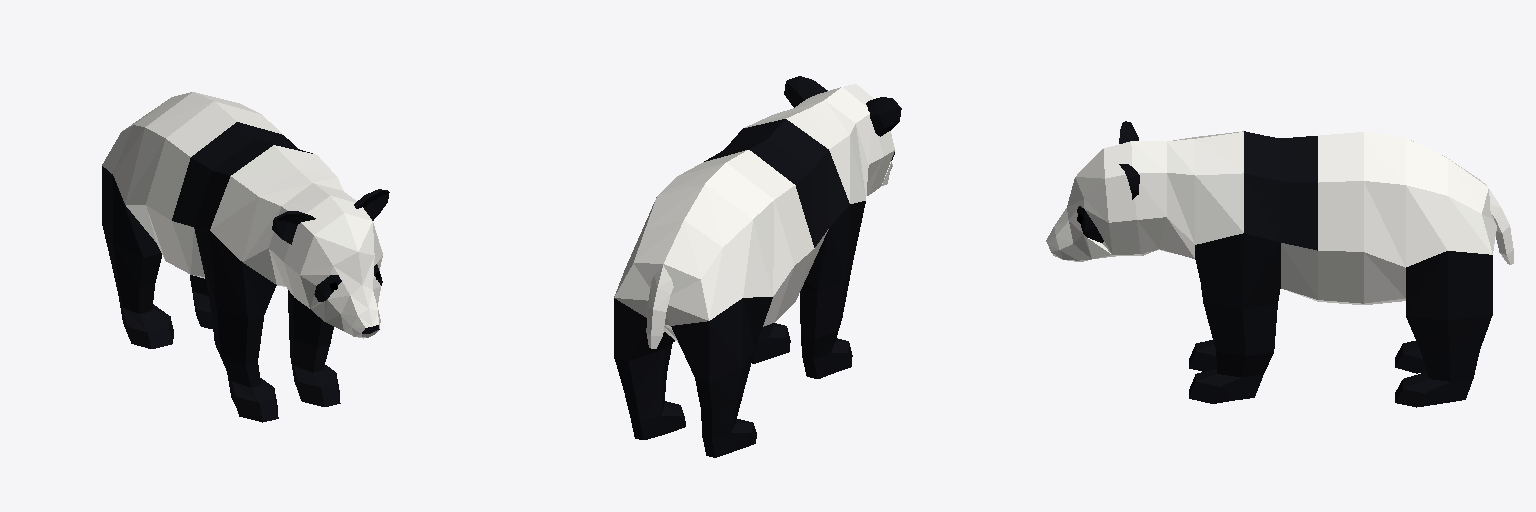
The picture shows the model from 3 angles: view 1: azimuth 30°, elevation 25°; view 2: azimuth 150°, elevation 25°; view 3: azimuth 270°, elevation 25°; orthographic projection.
Visible parts, largest first — view 1: Geo_Panda; view 2: Geo_Panda; view 3: Geo_Panda.
Part boxes in pixels (x1,y1,x2,y2): Geo_Panda: (102, 92, 389, 422); Geo_Panda: (614, 76, 901, 457); Geo_Panda: (1046, 121, 1513, 407).
Size of the model in its own units: 87.28 by 151 by 259.
Materials: 1 (1 with a texture image).